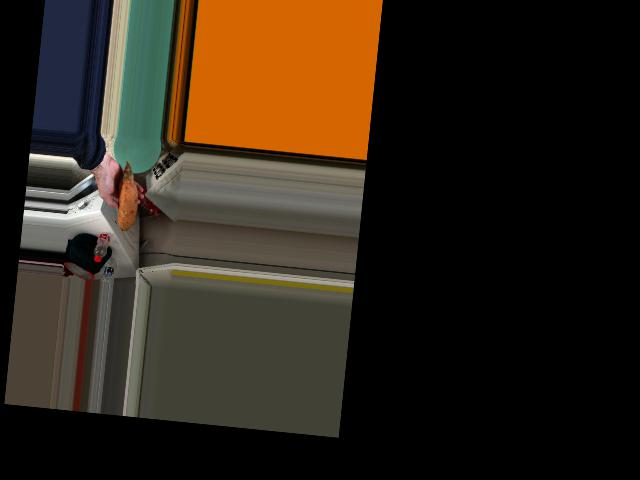sweet_potato: (110, 174, 139, 237)
